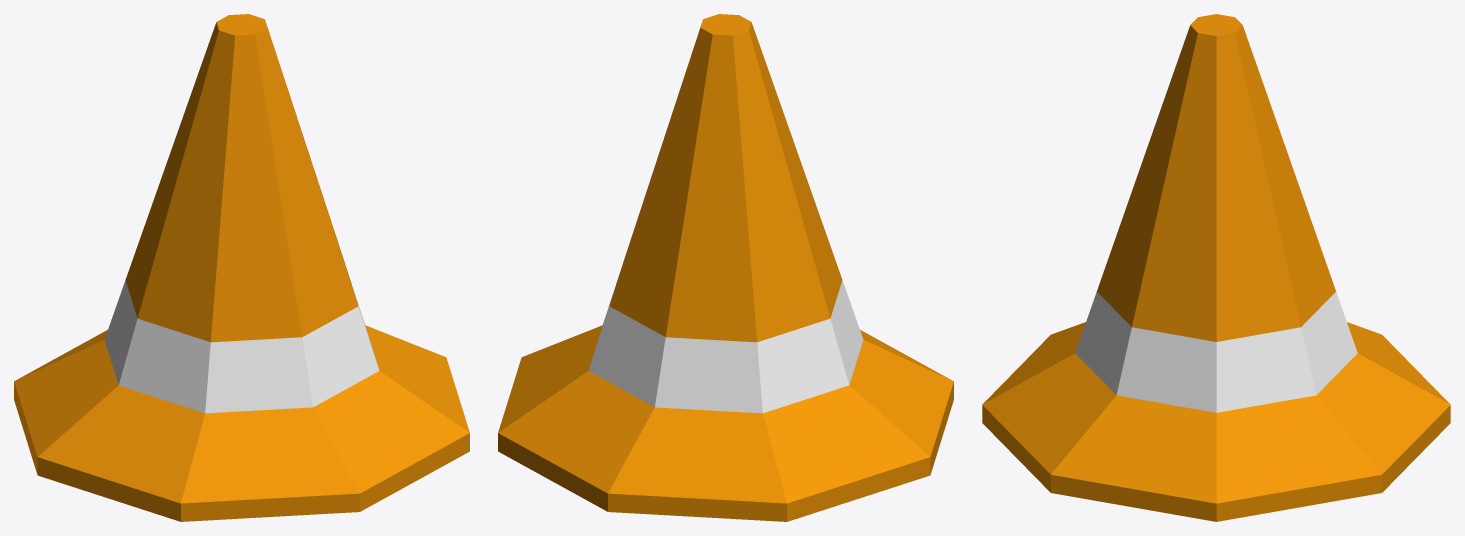
Rendered from Blocker-Cone.fbx.
3 renders of one model, left to right at view 1: azimuth 30°, elevation 25°; view 2: azimuth 150°, elevation 25°; view 3: azimuth 270°, elevation 25°, orthographic.
Parts seen in each view (by area): view 1: Block.Cone; view 2: Block.Cone; view 3: Block.Cone.
Part boxes in pixels (x1,y1,x2,y2): Block.Cone: [14, 14, 469, 521]; Block.Cone: [498, 14, 953, 521]; Block.Cone: [982, 14, 1450, 521].
Bounding box in the file's own units: 200 × 187 × 200.
